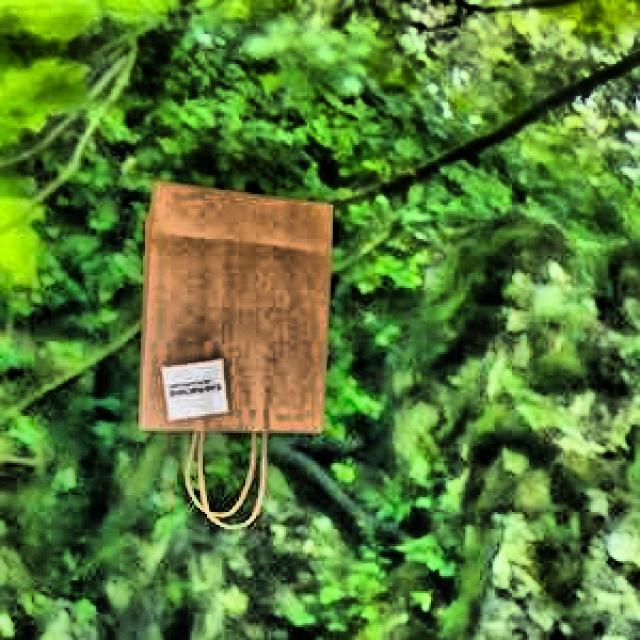Paper-bag: (128, 179, 340, 533)
